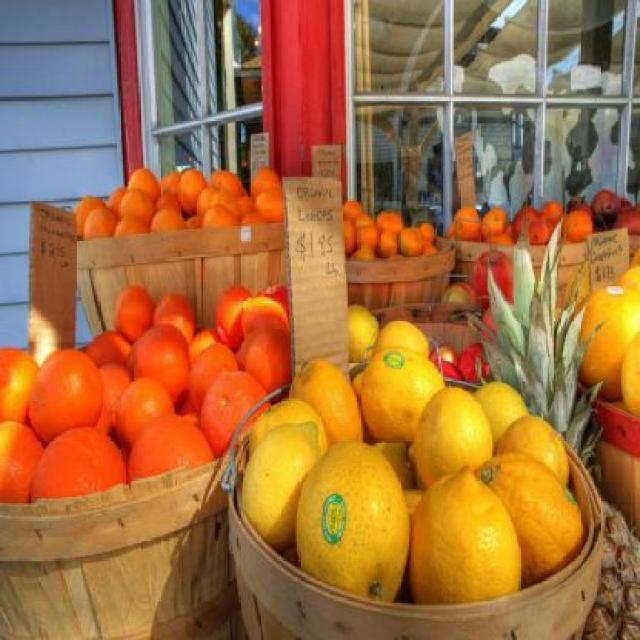Orange: (26, 432, 132, 497), (128, 416, 214, 492), (202, 370, 267, 456), (26, 358, 100, 432), (115, 377, 174, 445), (136, 326, 187, 403), (247, 326, 296, 397), (187, 344, 233, 414), (0, 426, 40, 504), (0, 346, 37, 424), (116, 282, 152, 341), (85, 325, 126, 367), (152, 292, 191, 332), (78, 203, 114, 242), (178, 172, 204, 211), (119, 192, 152, 220), (200, 206, 240, 228), (566, 210, 597, 238), (151, 202, 184, 228), (210, 170, 244, 195), (134, 166, 158, 199), (166, 168, 188, 201), (378, 222, 402, 250), (486, 201, 504, 236), (108, 218, 142, 236), (458, 203, 482, 226), (532, 218, 550, 245), (205, 184, 230, 202), (360, 226, 380, 248), (111, 184, 124, 210), (403, 232, 420, 251), (343, 198, 354, 222), (422, 226, 436, 240), (346, 222, 351, 236)
